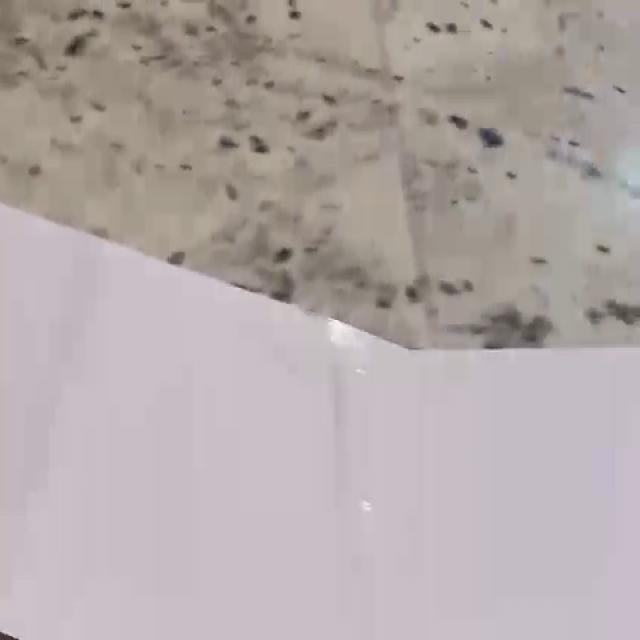road: (0, 203, 640, 640)
